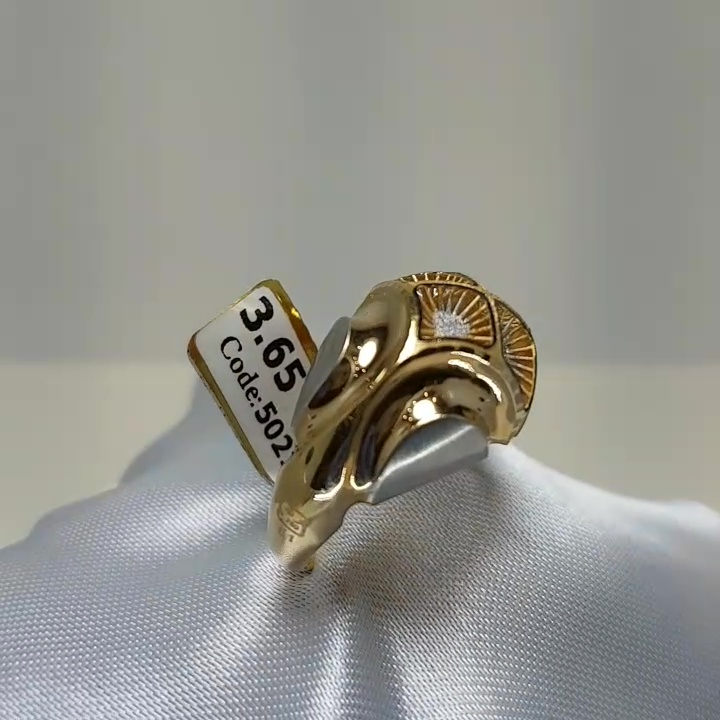Ring 2: (181, 241, 562, 586)
